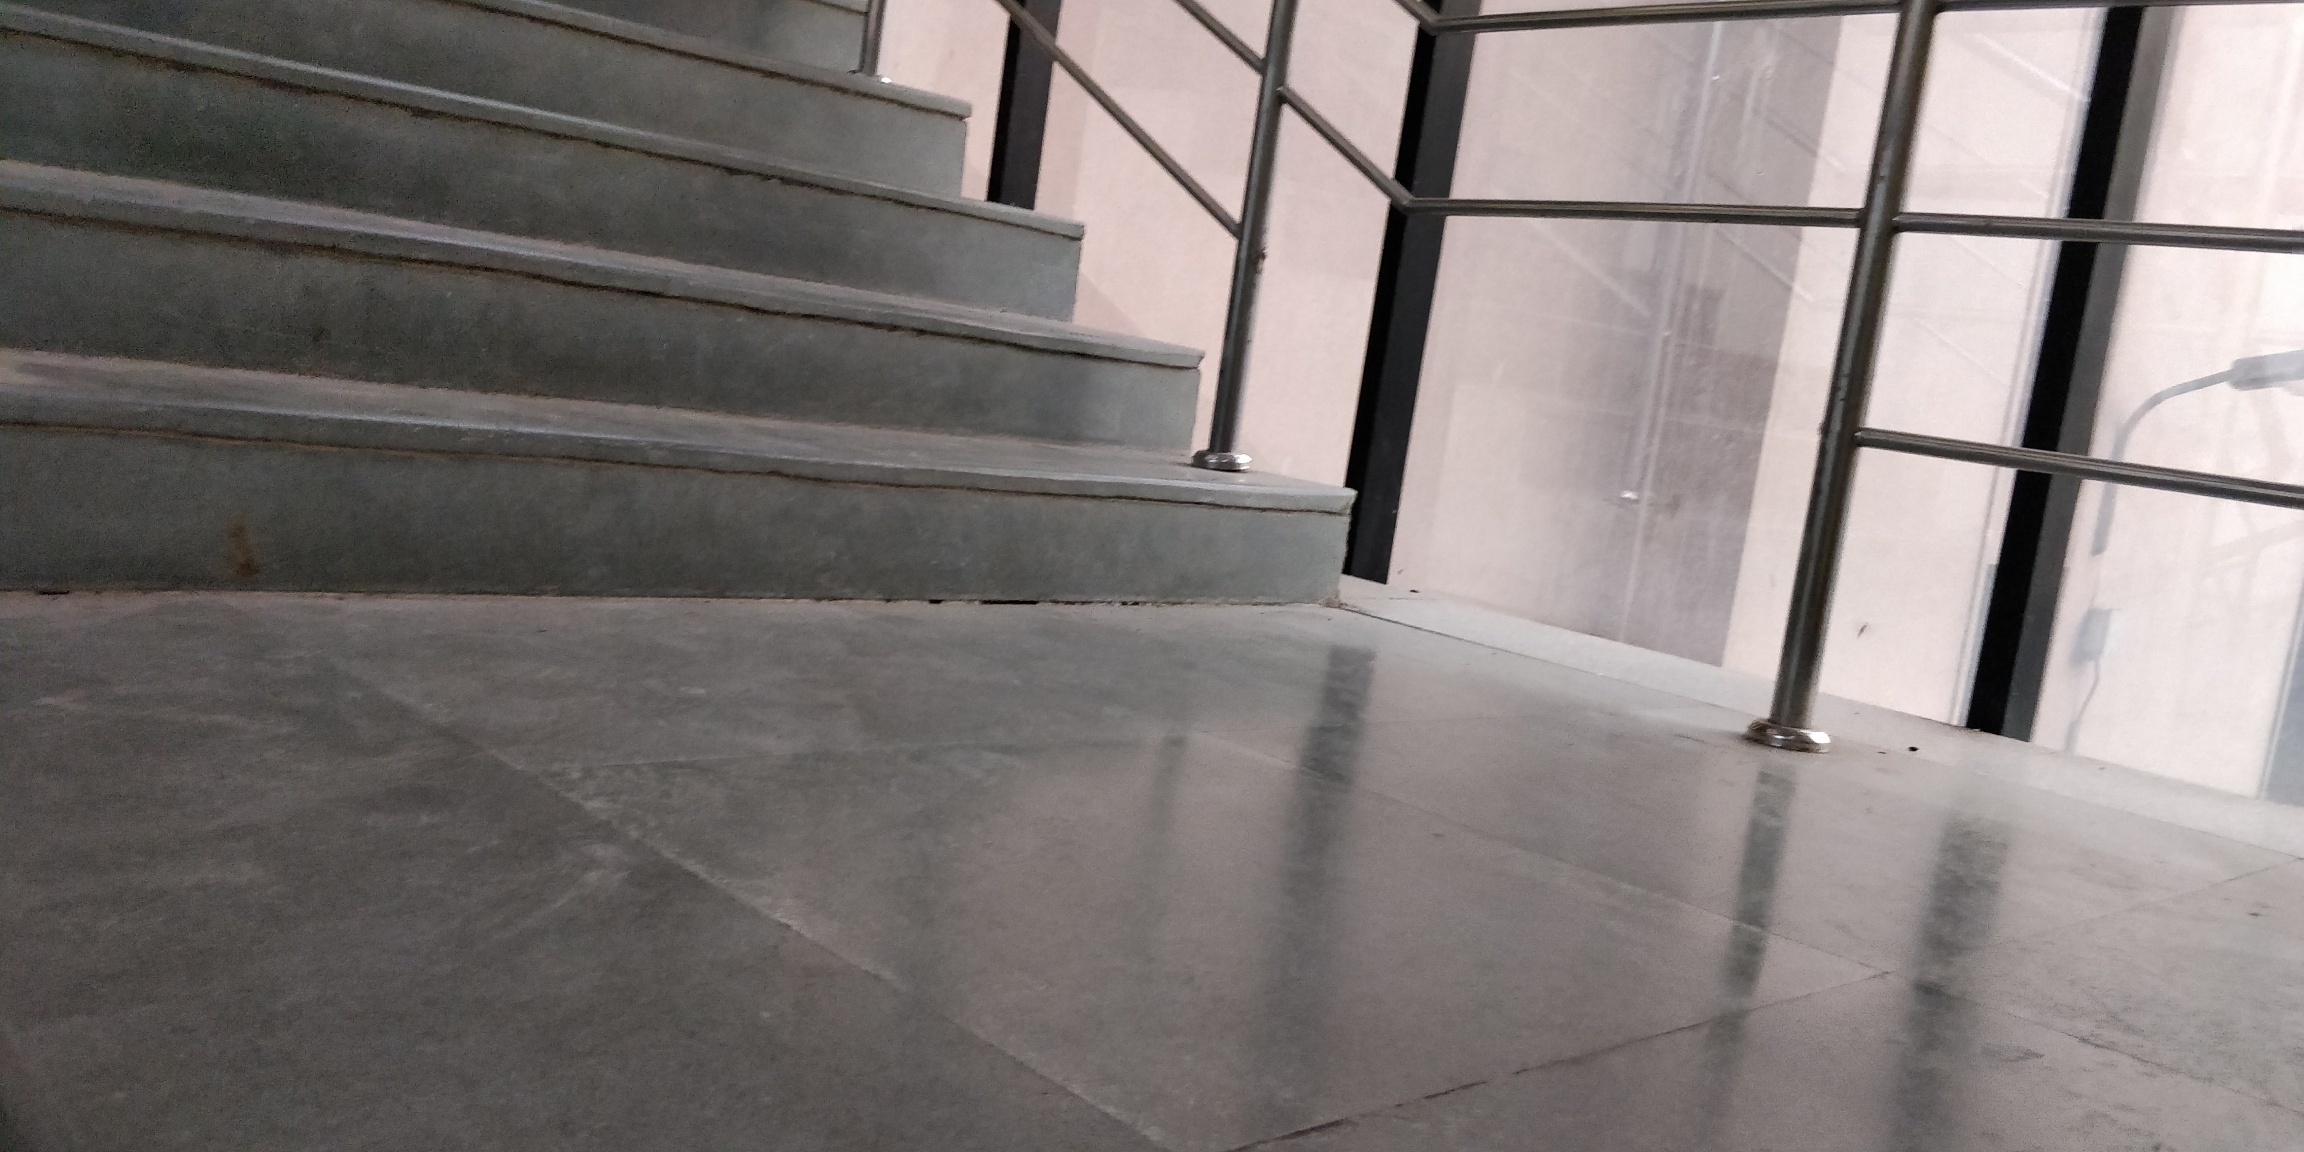stairs_up: (7, 9, 1389, 594)
